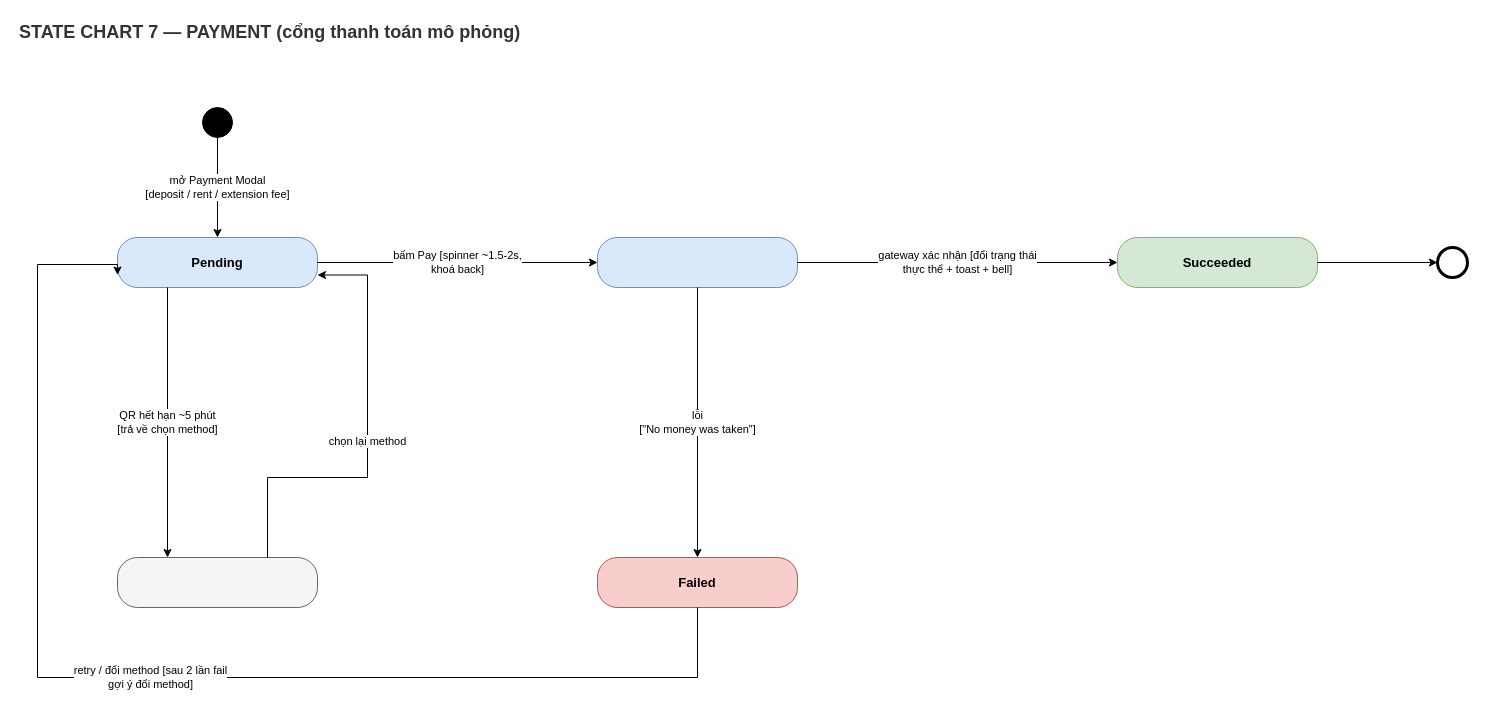
Some shapes in this 1486 by 707 pixel diagram are drawn without their labels. Here are the shapes that lost their labels. From the top down, the box of each, then its label:
(596, 236, 798, 288): Processing
(116, 556, 318, 608): Expired
